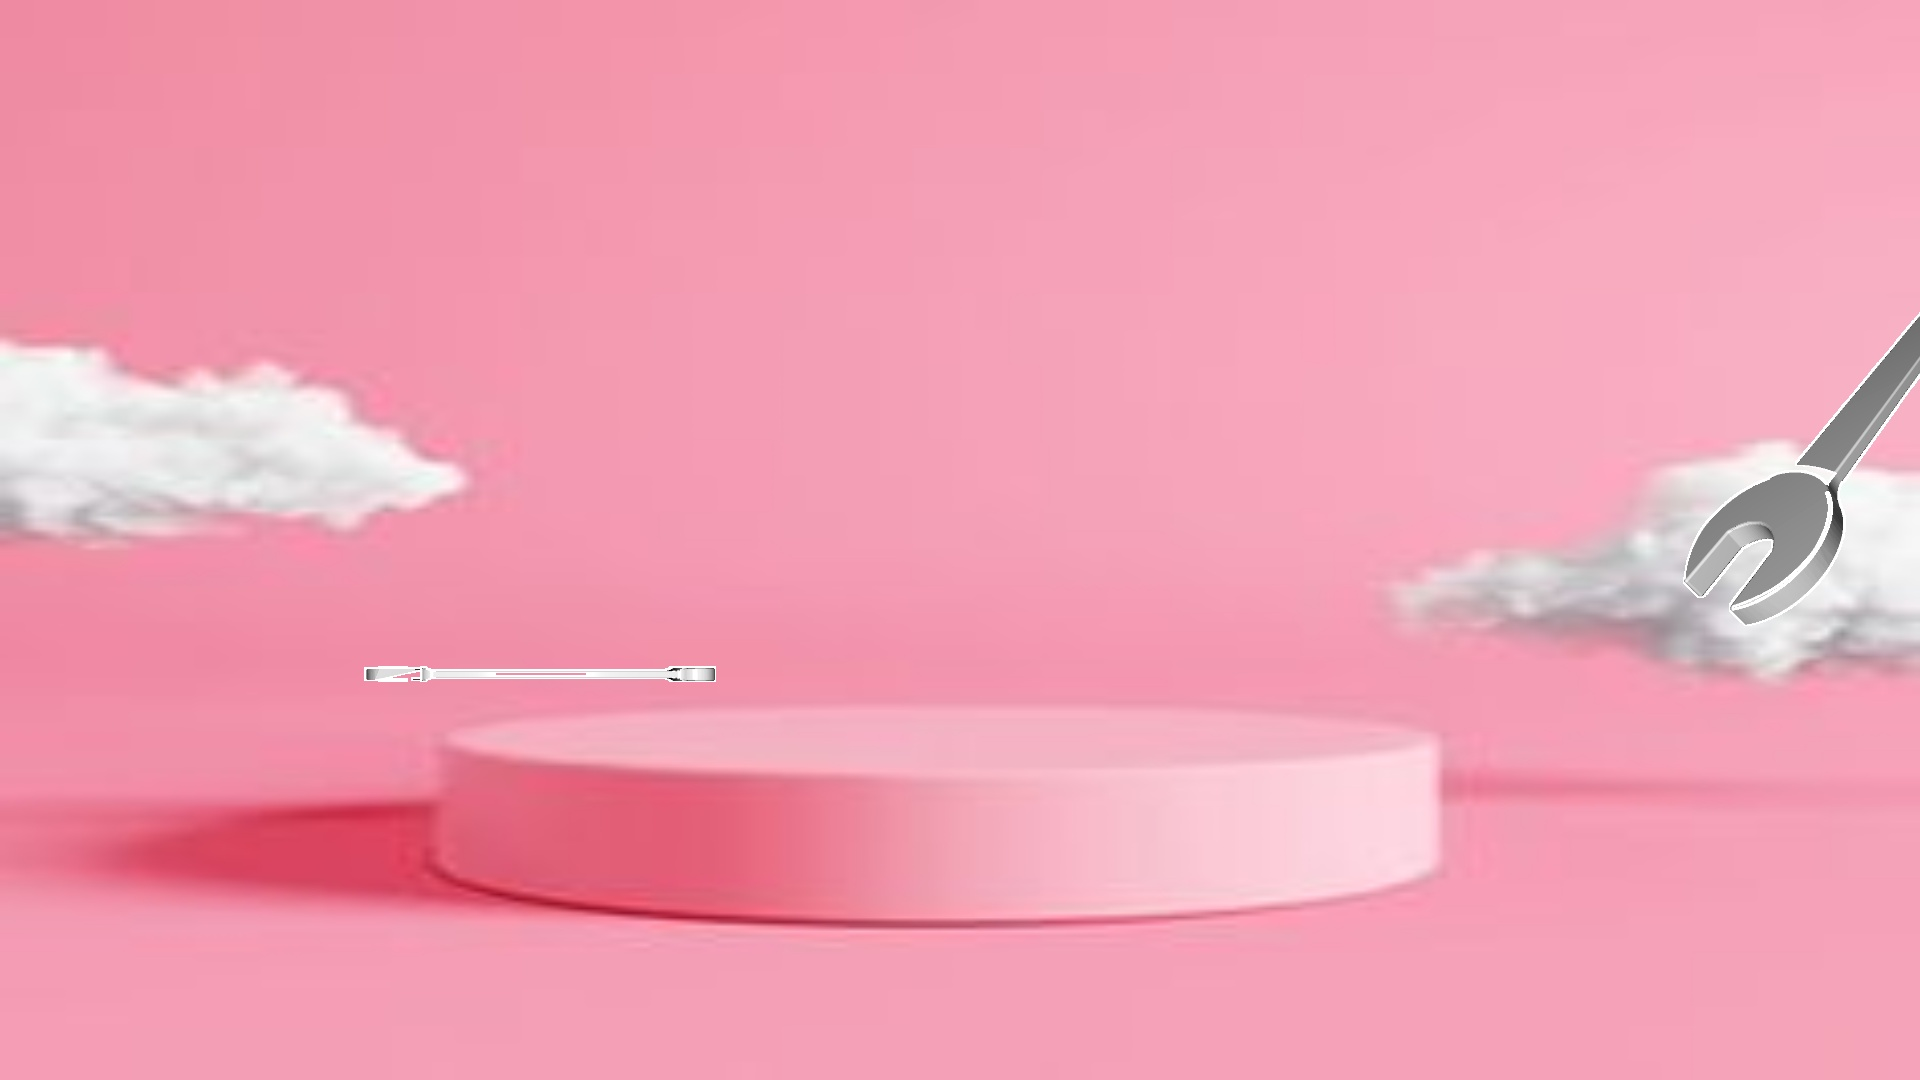Mixed Key: (1683, 313, 1919, 625), (364, 666, 715, 680)
